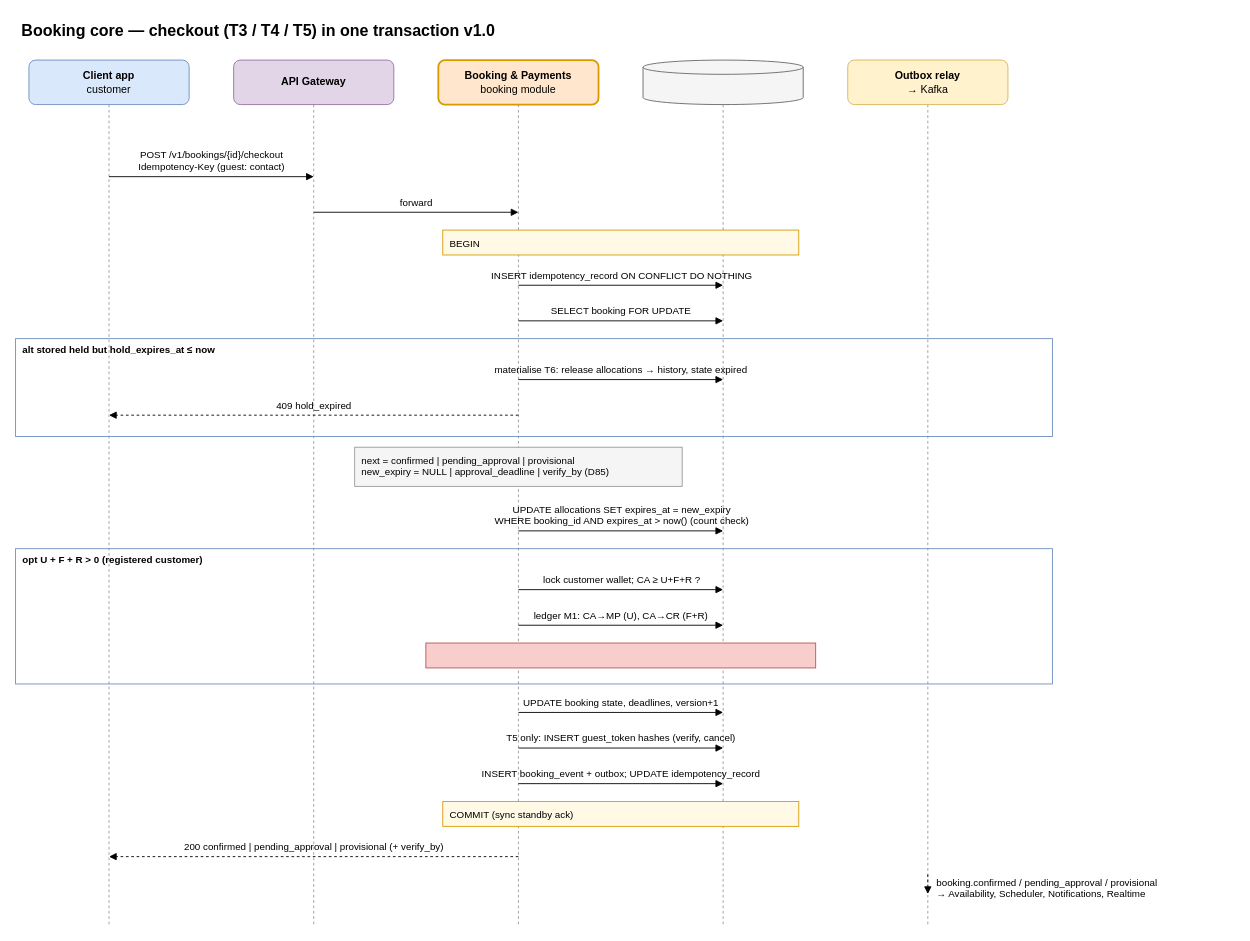
Image size: 1250x941. Some labels were removed from this diagram. Each missing label, with the centre of its shape:
"insufficient: ROLLBACK TO cmd → 422 insufficient_funds, hold stays" goes at (x=620, y=655).
"PostgreSQL booking + ledger" goes at (x=722, y=82).
